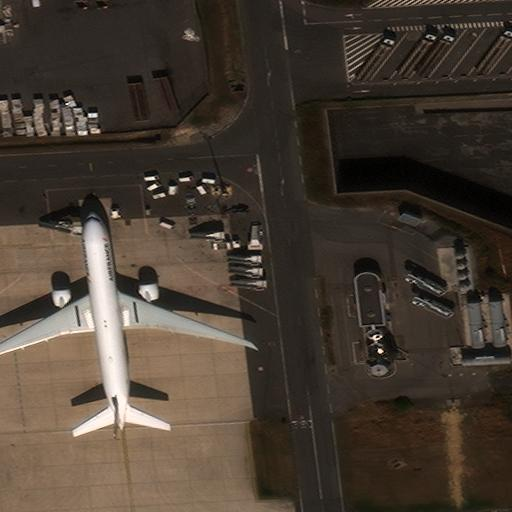Large Civil Transport: (0, 212, 252, 429)
